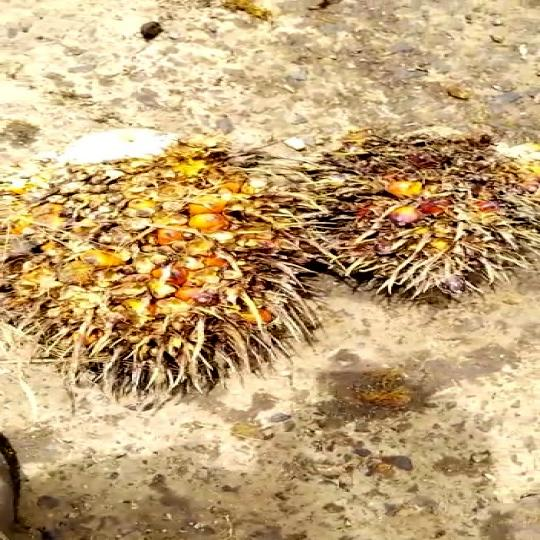terlalu masak: (0, 139, 343, 398), (295, 134, 540, 289)
